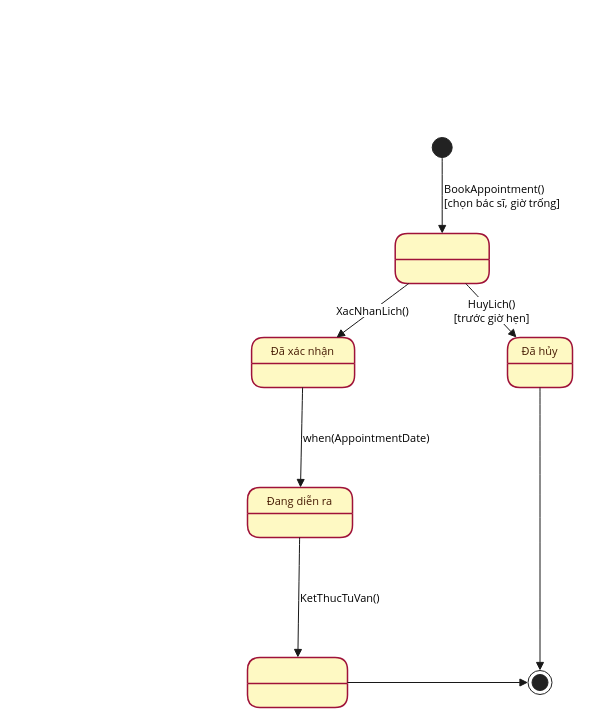
Image size: 590x725. Some labels were removed from this diagram. Each missing label, with the centre of its shape:
"Hoàn thành" belongs at pixel 297 682.
"Đã đặt lịch" belongs at pixel 442 258.
